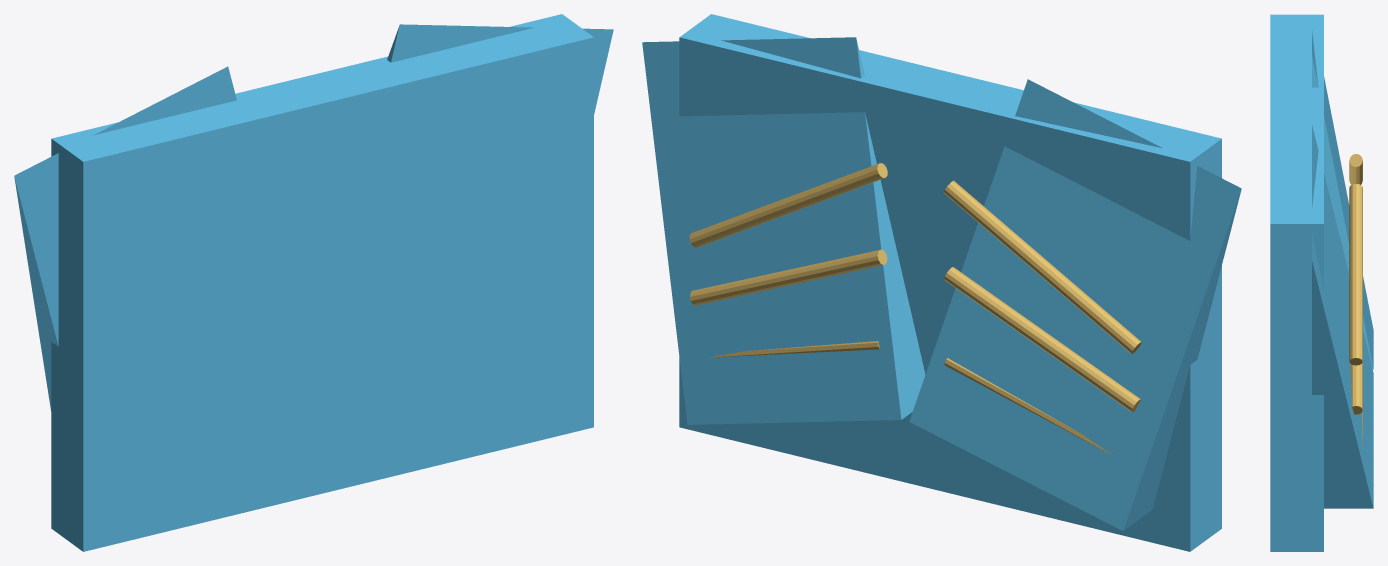
The model's file is WaterArmorUpperTorso.obj.
3 renders of one model, left to right at view 1: azimuth 30°, elevation 25°; view 2: azimuth 150°, elevation 25°; view 3: azimuth 270°, elevation 25°, orthographic. The views are drawn at different scales.
Parts seen in each view (by area): view 1: WaterArmorUpperTorso; view 2: WaterArmorUpperTorso; view 3: WaterArmorUpperTorso.
Part boxes in pixels (left/top/right/bottom): WaterArmorUpperTorso: left=14, top=14, right=613, bottom=551; WaterArmorUpperTorso: left=642, top=14, right=1241, bottom=551; WaterArmorUpperTorso: left=1270, top=14, right=1373, bottom=551.
Size of the model in its own units: 2.17 by 1.48 by 0.385.
